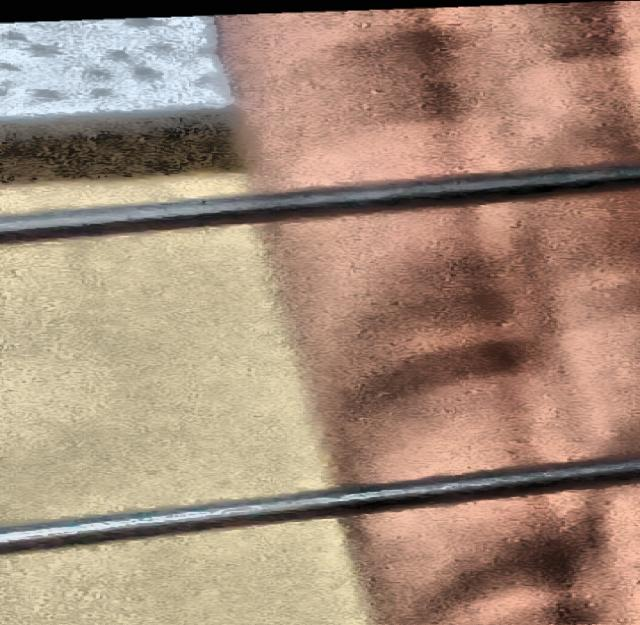obstacle: (0, 1, 640, 624)
